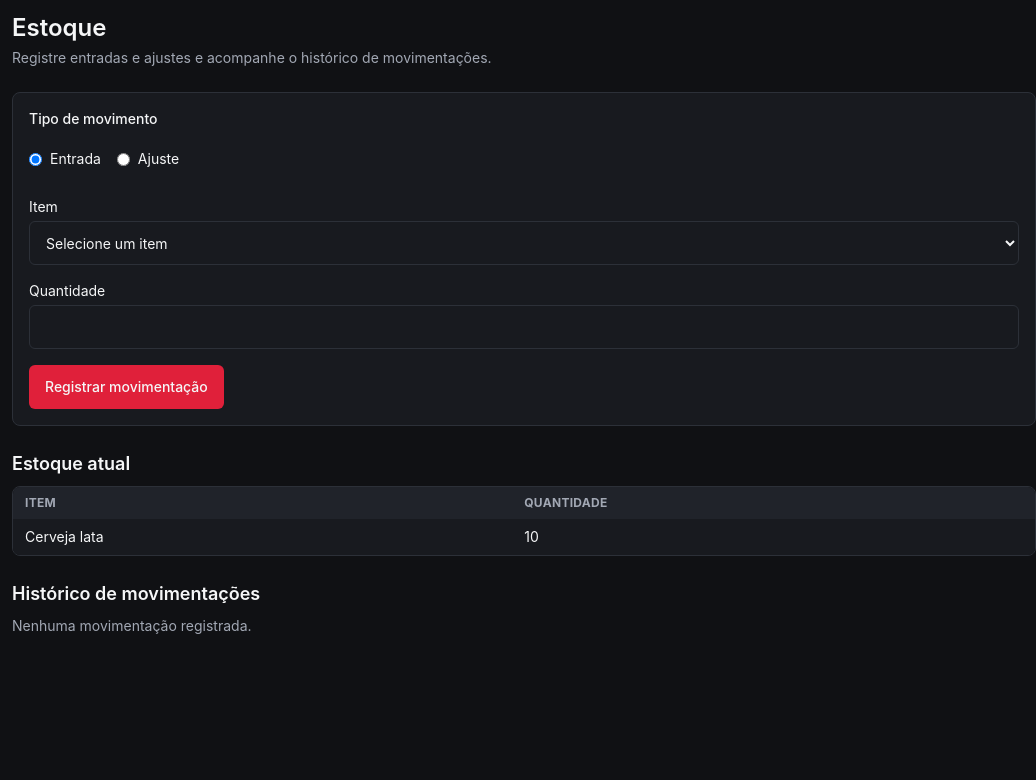
InventoryView › registers a negative adjustment and decreases the displayed current stock
The width and height of the screenshot is (1036, 780).
Expected: the text "10" is shown, [524, 528, 539, 545]
Click the radio button labelled "Ajuste". click: [123, 159]
box: [117, 152, 130, 166]
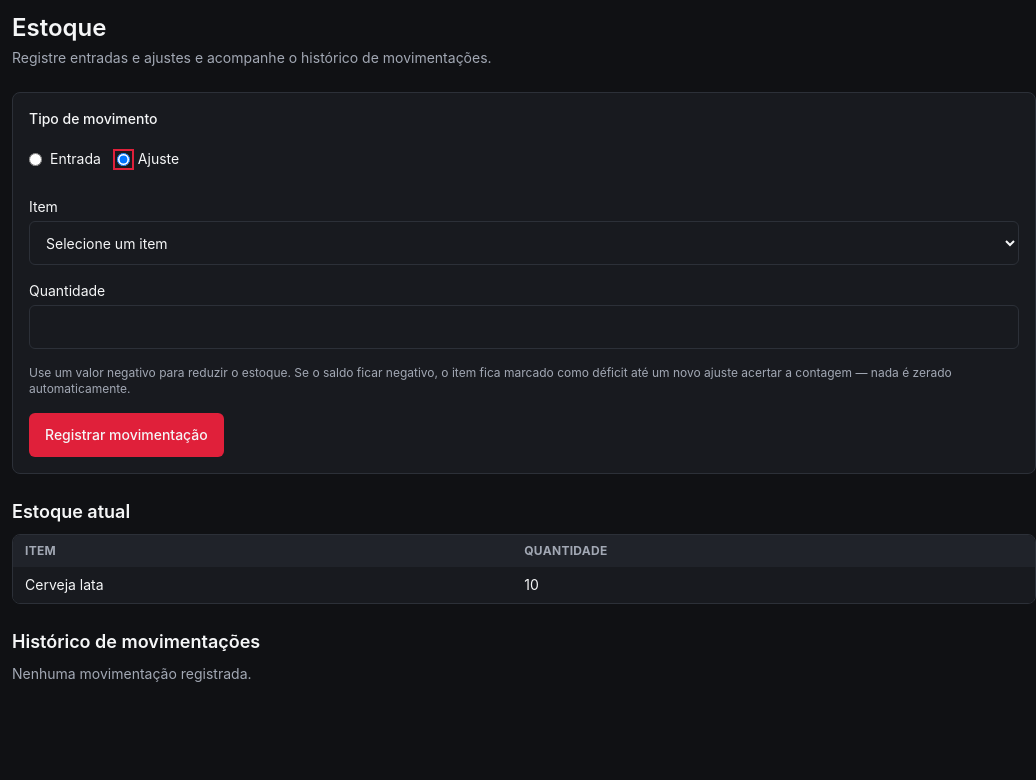
Select "Cerveja lata" in the dropdown labelled "Item". click: [524, 243]
box: [29, 221, 1019, 265]
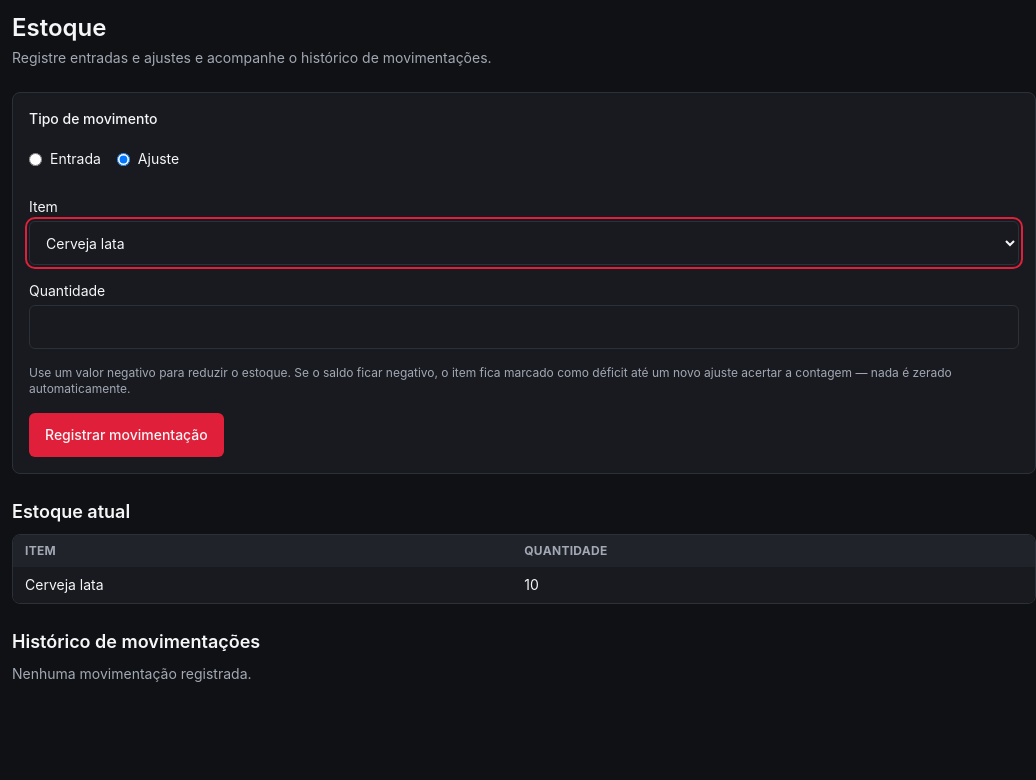
Type "-4" into the field labelled "Quantidade". click: [524, 327]
box: [29, 305, 1019, 349]
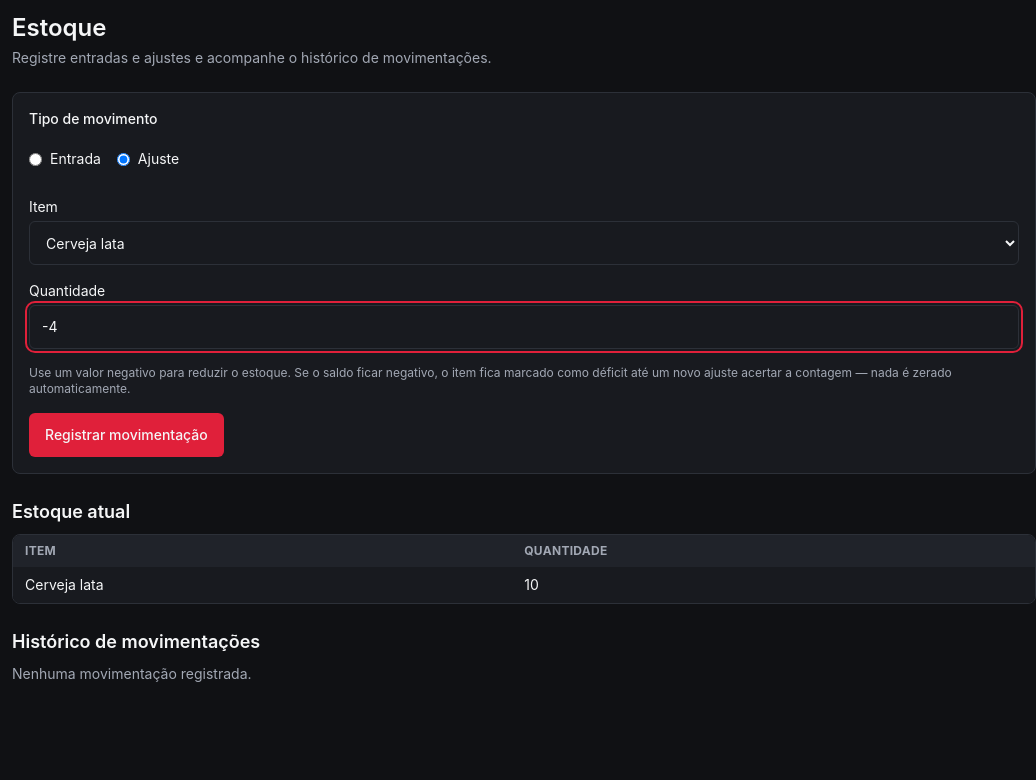
Click the button "Registrar movimentação". click: [126, 435]
box: [29, 413, 224, 457]
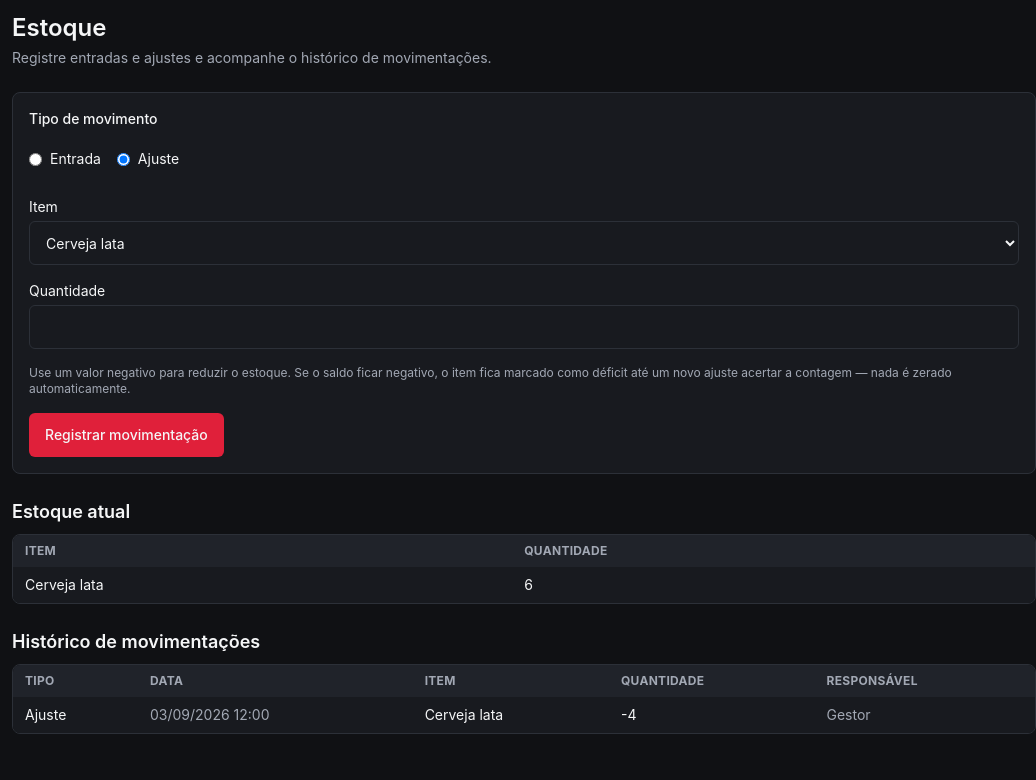
Result: the text "6" is shown at [524, 576, 533, 593]
